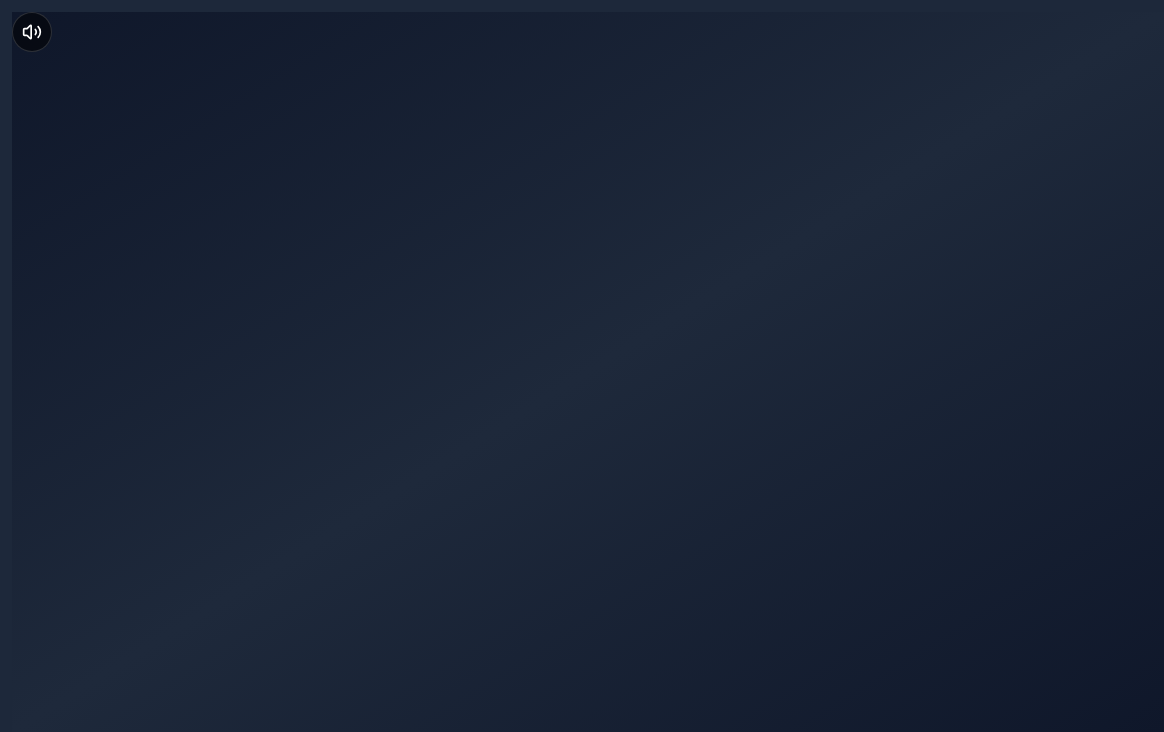
SpeechToggle › mutes and unmutes, and says which it is
This screenshot has width=1164, height=732.
Later steps or results of the test are not shown.
Click the button named "Mute voice". click: x=32, y=32
box: [12,12,52,52]
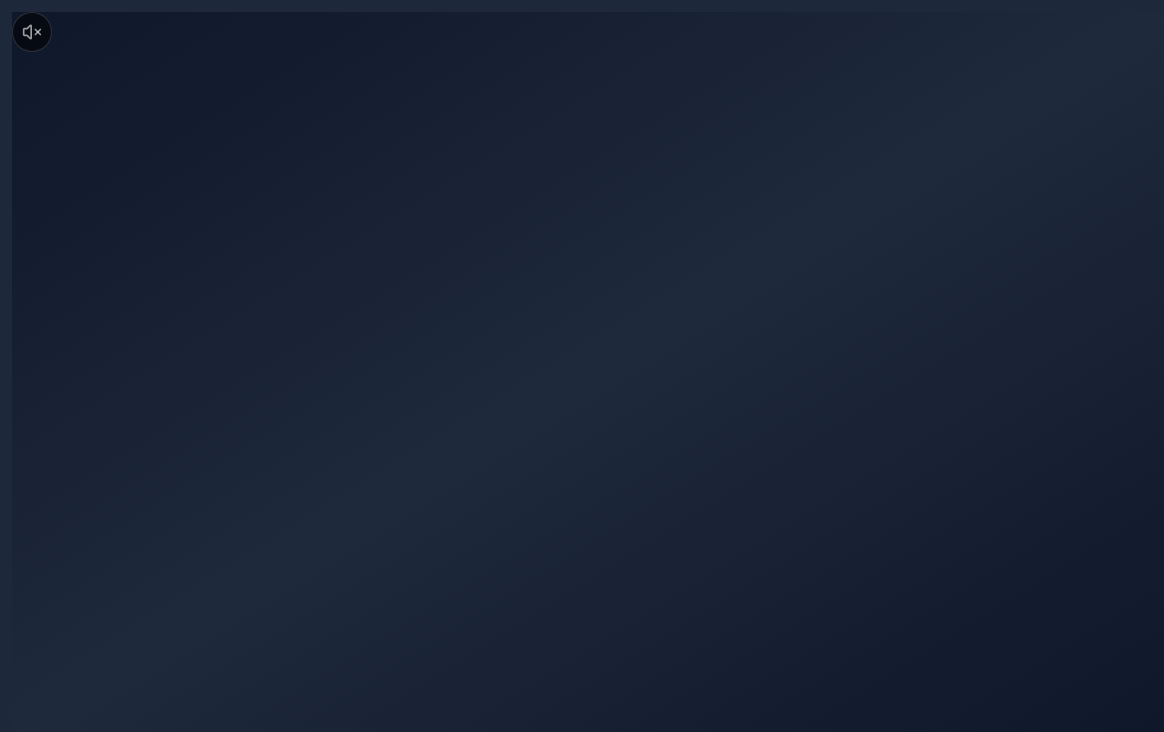
Now the button named "Turn voice on" is pressed, box [12,12,52,52]
